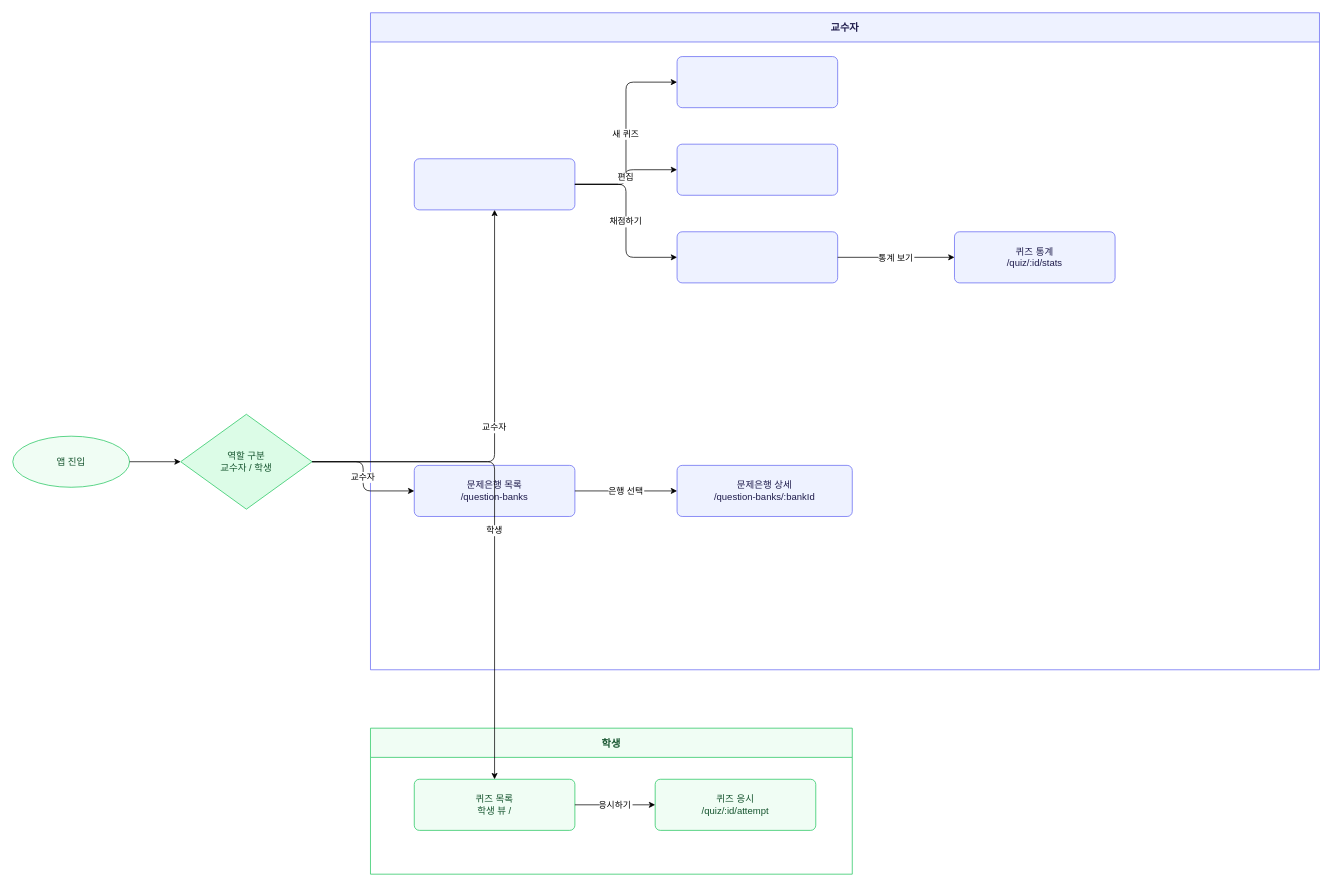
The diagram is 1332 pixels wide and 887 high, and some of its shapes have lost their labels. Here are the shapes that lost their labels. From the top down, the centre of each, then its label:
At point (757, 82): "퀴즈 생성 /quiz/new".
At point (494, 184): "퀴즈 목록 교수자 뷰 /".
At point (757, 169): "퀴즈 편집 /quiz/:id/edit".
At point (757, 257): "채점 대시보드 /quiz/:id/grade".
